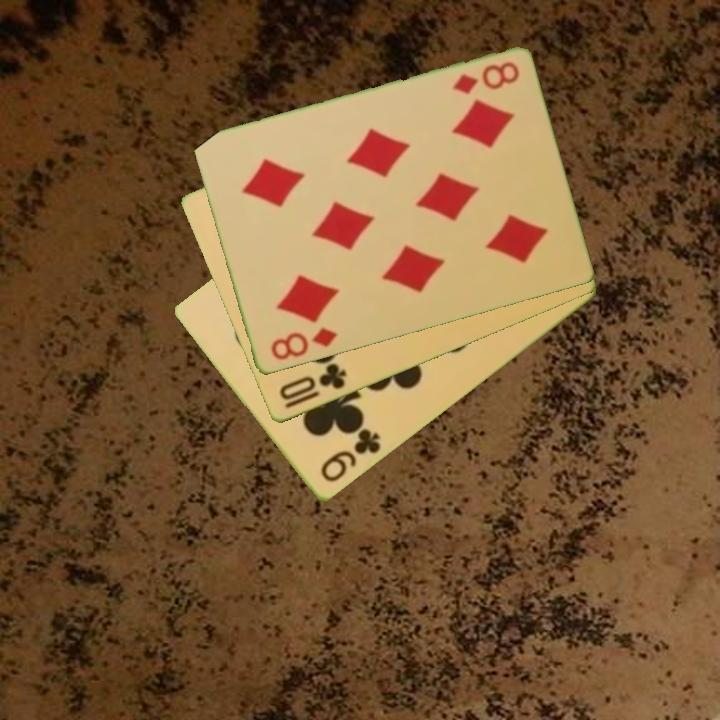10c: (275, 360, 350, 412)
8d: (448, 58, 522, 98), (267, 324, 340, 364)
9c: (317, 425, 384, 486)
